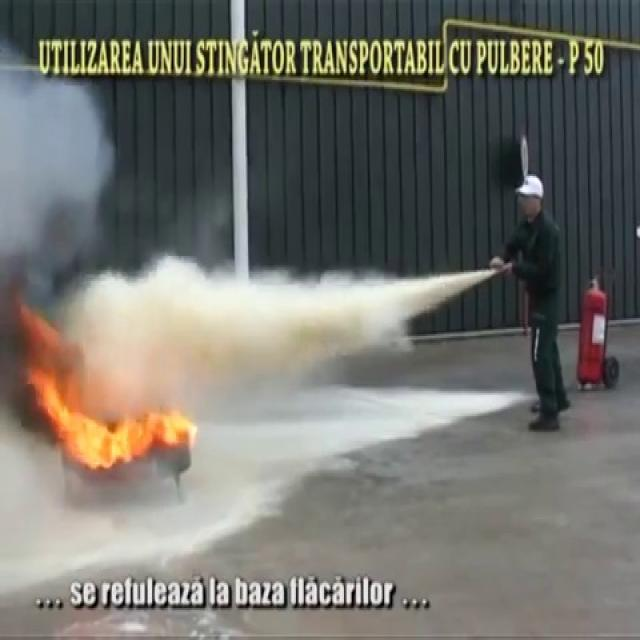Fire: (27, 352, 196, 475)
Smoke: (0, 0, 134, 389)
